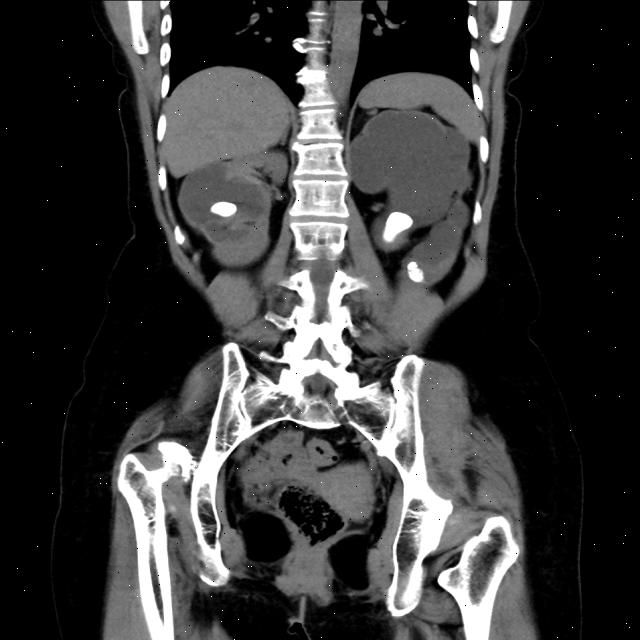kidneystone: (383, 211, 412, 242), (211, 201, 237, 218), (407, 261, 424, 282)
